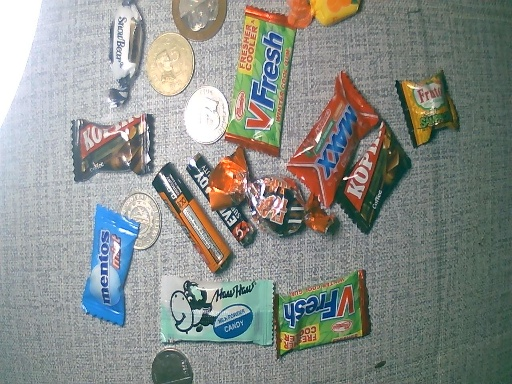metal: (149, 168, 236, 277), (187, 150, 254, 240), (147, 29, 196, 99), (182, 86, 228, 145), (173, 1, 229, 40), (125, 194, 161, 252), (149, 349, 193, 384)
plastic: (280, 73, 384, 202), (223, 11, 302, 152), (272, 267, 374, 368), (210, 149, 332, 233), (155, 277, 277, 345), (66, 112, 156, 184), (342, 136, 413, 226), (80, 211, 136, 319), (394, 68, 467, 148), (281, 1, 390, 43), (101, 2, 142, 110)
